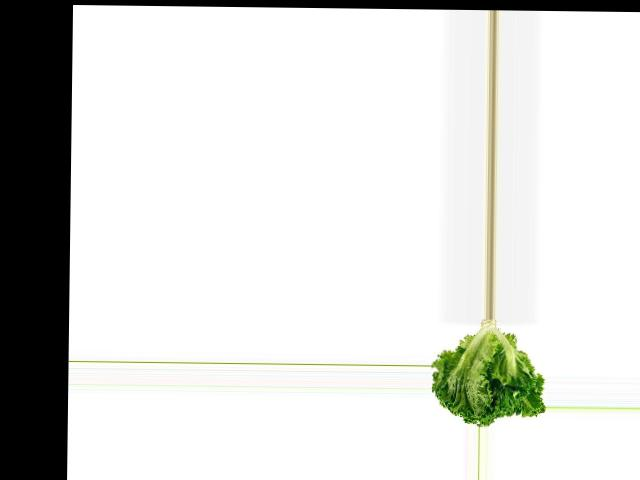lettuce: (430, 318, 545, 426)
